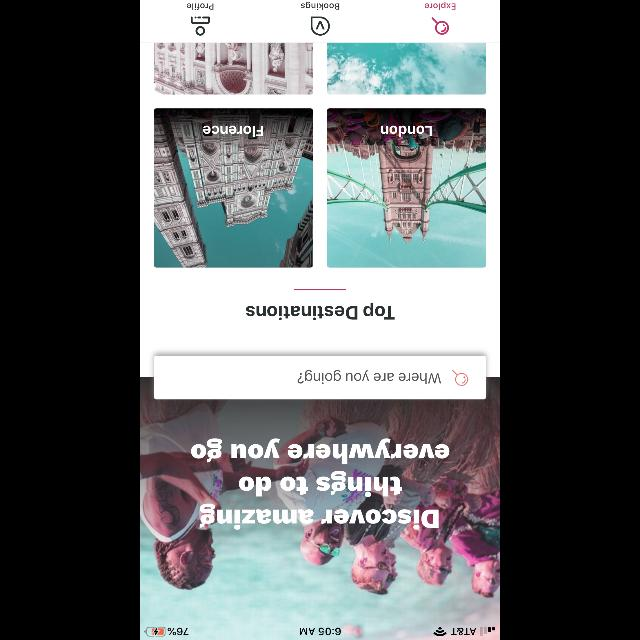icon: (190, 16, 210, 36), (432, 18, 448, 34), (452, 370, 468, 386)
image: (140, 376, 500, 640), (326, 109, 486, 268), (154, 109, 312, 268), (326, 44, 486, 94), (154, 44, 312, 94), (310, 16, 330, 36)
input: (154, 356, 486, 398)
text: (191, 438, 449, 530), (246, 302, 394, 320), (298, 370, 440, 384), (203, 125, 263, 136), (381, 125, 432, 136), (301, 2, 339, 10), (425, 2, 455, 10), (187, 4, 213, 10)
uppertaskbar: (140, 626, 500, 640)
